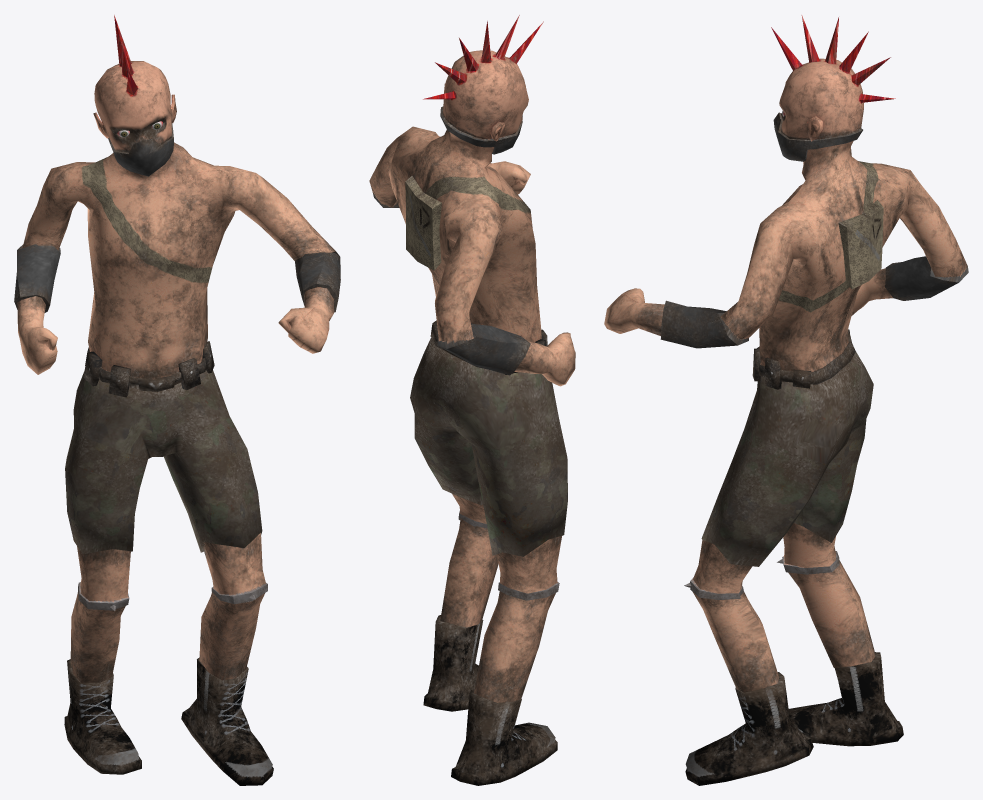
File: Anim_ataque_d1_npc2.0016.obj
The picture shows the model from 3 angles, left to right: view 1: azimuth 30°, elevation 25°; view 2: azimuth 150°, elevation 25°; view 3: azimuth 270°, elevation 25°; orthographic projection. The views are drawn at different scales.
Visible parts, largest first — view 1: polySurface1; view 2: polySurface1; view 3: polySurface1.
Part boxes in pixels (x1,y1,x2,y2): polySurface1: (14,15,340,785); polySurface1: (369,15,575,785); polySurface1: (604,15,968,785).
Bounding box in the file's own units: 3.62 × 9.95 × 4.51.
2 materials, 2 textured.
